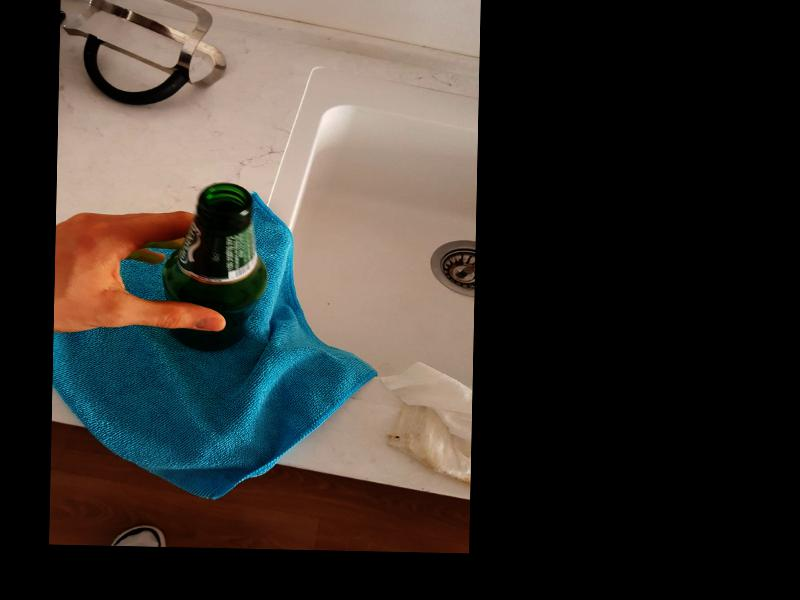Beer: (169, 184, 267, 354)
